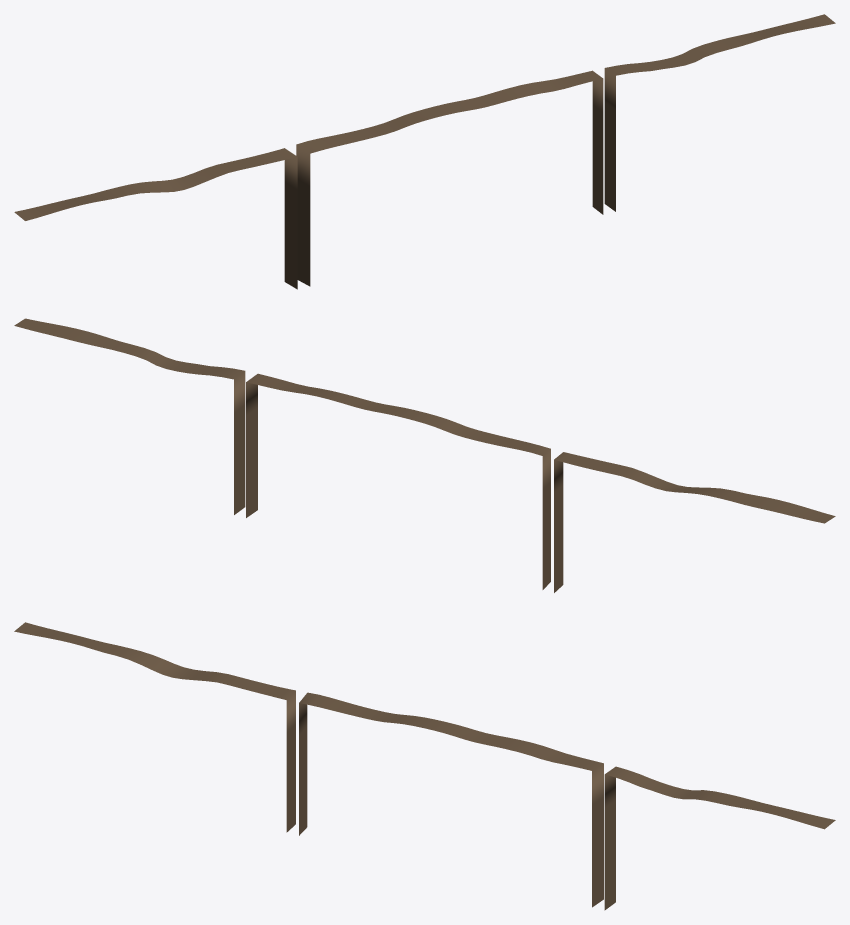
Rendered from desert_part2_way.fbx.
The picture shows the model from 3 angles, top to bottom: view 1: azimuth 30°, elevation 25°; view 2: azimuth 150°, elevation 25°; view 3: azimuth 330°, elevation 25°; orthographic projection.
Parts seen in each view (by area): view 1: Grid.001; view 2: Grid.001; view 3: Grid.001.
Part boxes in pixels (x1,y1,x2,y2): Grid.001: (14, 14, 835, 289); Grid.001: (14, 318, 835, 592); Grid.001: (14, 622, 835, 910).
Bounding box in the file's own units: 5969 × 979 × 144.
